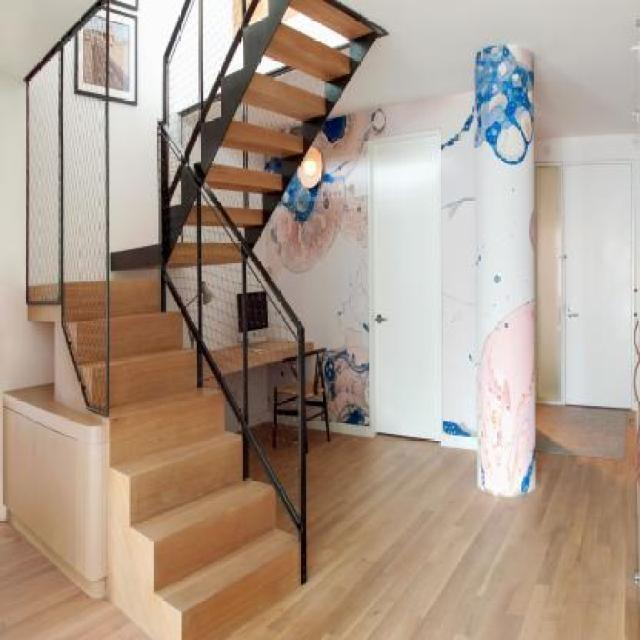stair: (1, 232, 302, 640), (141, 11, 374, 232)
